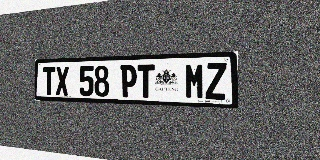5: (80, 66, 94, 96)
8: (94, 65, 109, 97)
M: (185, 63, 205, 99)
P: (120, 65, 137, 97)
T: (137, 64, 154, 98), (43, 67, 55, 95)
X: (56, 66, 69, 96)
Z: (205, 62, 227, 100)
